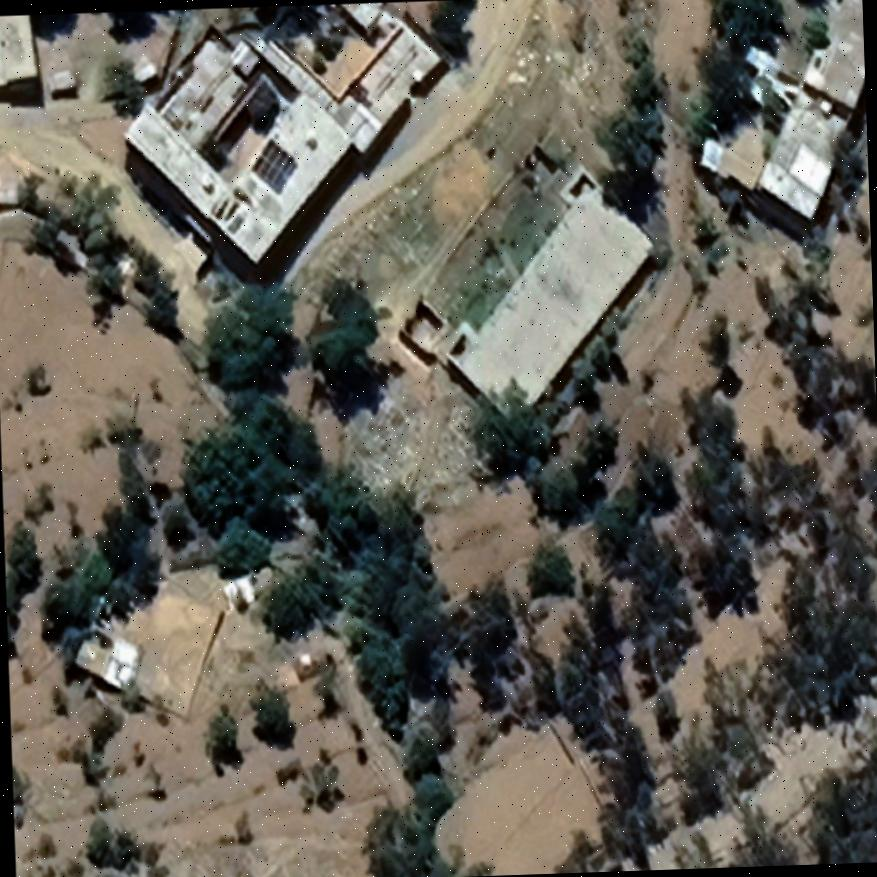Solarpanel: (242, 135, 297, 188)
